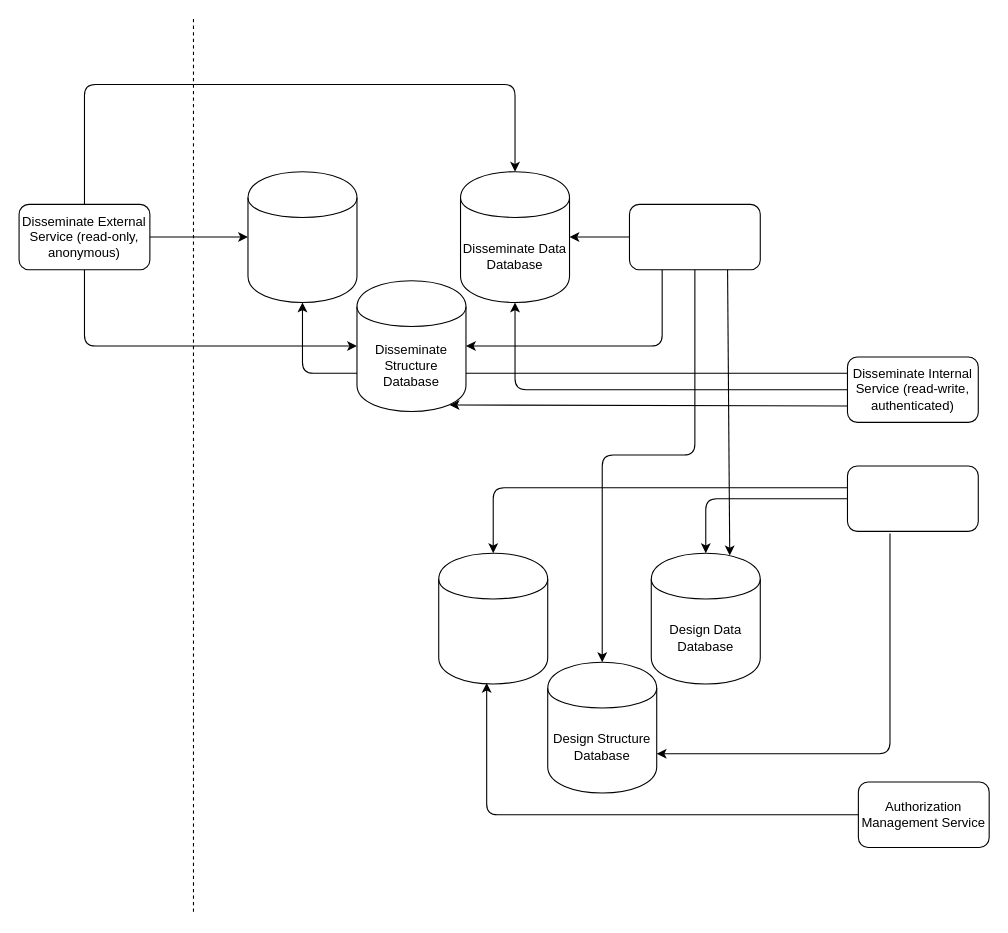
Some shapes in this 1008 by 933 pixel diagram are drawn without their labels. Each missing label, with the box of its shape:
Design Common Database: (438, 552, 548, 684)
Design NSI Service (read-write, authenticated): (846, 465, 978, 531)
Disseminate Common Database: (247, 171, 357, 302)
Transfer Service: (628, 203, 760, 270)
